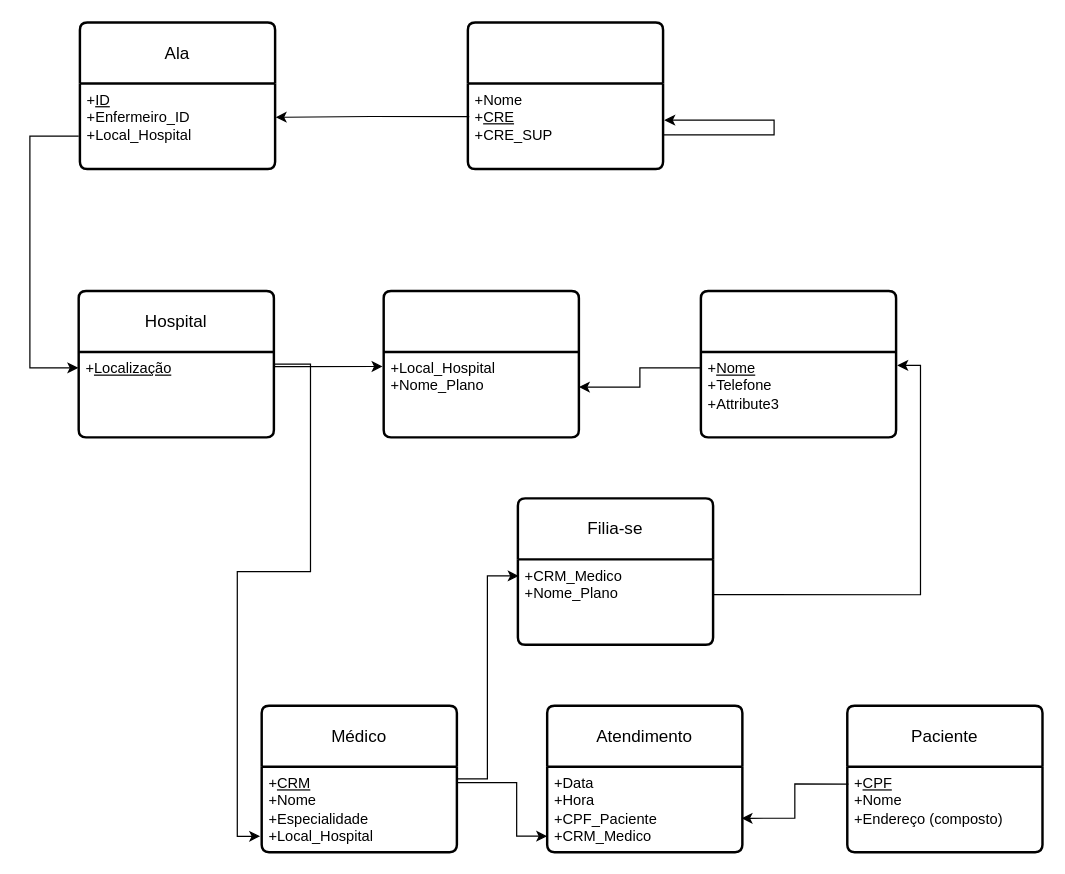
The diagram is 1065 pixels wide and 874 high, and some of its shapes have lost their labels. Here are the shapes that lost their labels. From the top down, the box of each, then its label:
(466, 21, 664, 170): Enfermeiro
(382, 289, 580, 438): Contempla
(699, 289, 897, 438): Plano de saúde
